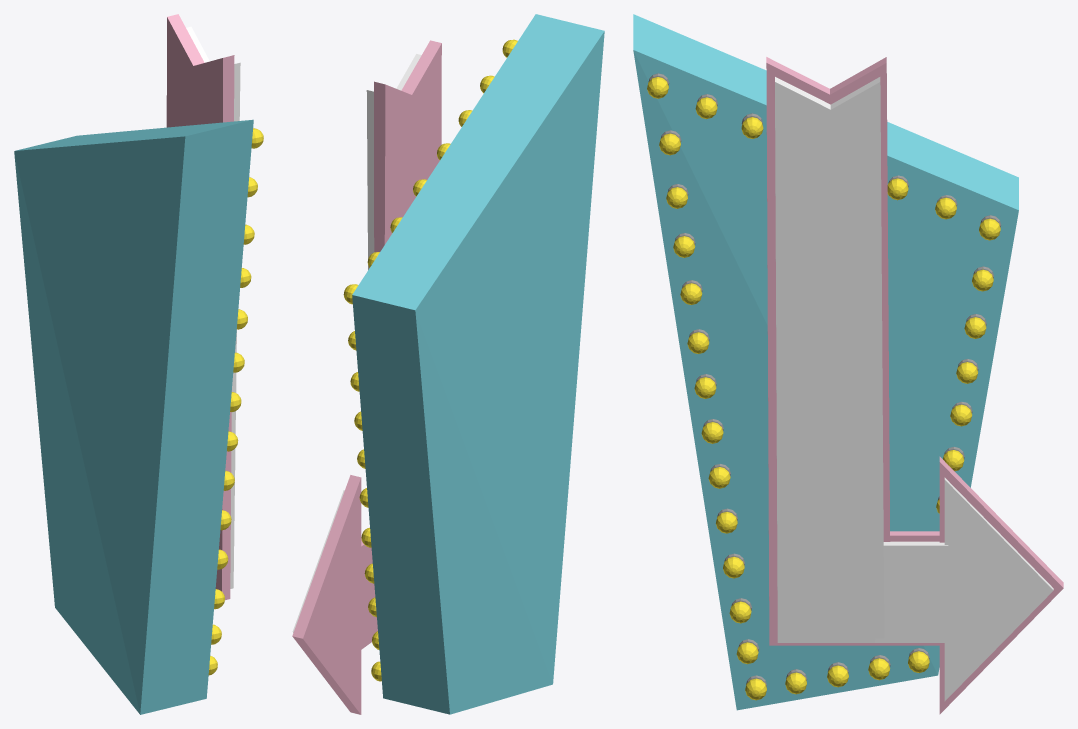
Rendered from FunThisWay.fbx.
3 views of the same model, side by side, from view 1: azimuth 30°, elevation 25°; view 2: azimuth 150°, elevation 25°; view 3: azimuth 270°, elevation 25° (orthographic). The views are drawn at different scales.
Visible parts, largest first — view 1: default; view 2: default; view 3: default.
Boxes of the visible parts, box(x1,y1,x2,y2) form: default: box(14, 14, 263, 714); default: box(292, 14, 604, 714); default: box(633, 14, 1063, 714).
Size of the model in its own units: 0.3185 by 1.57 by 0.9128.
